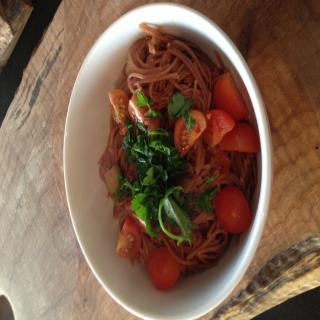tomato: (212, 186, 252, 234), (213, 70, 248, 122), (174, 109, 208, 158), (218, 119, 260, 153), (200, 108, 234, 149), (147, 250, 180, 290), (114, 215, 142, 258), (128, 95, 157, 134), (106, 90, 128, 132)
